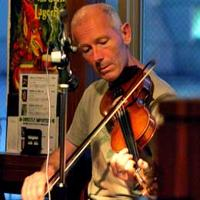person: (22, 4, 180, 200)
